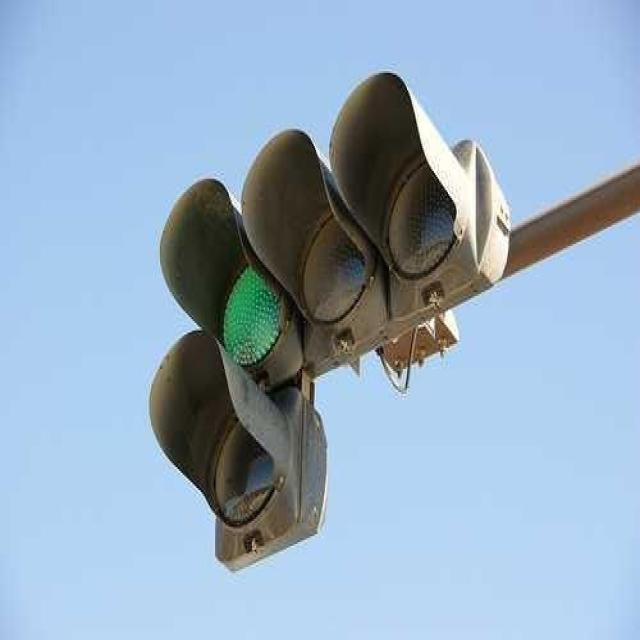Traffic Light -Green-: (133, 117, 343, 592), (164, 117, 518, 383)
